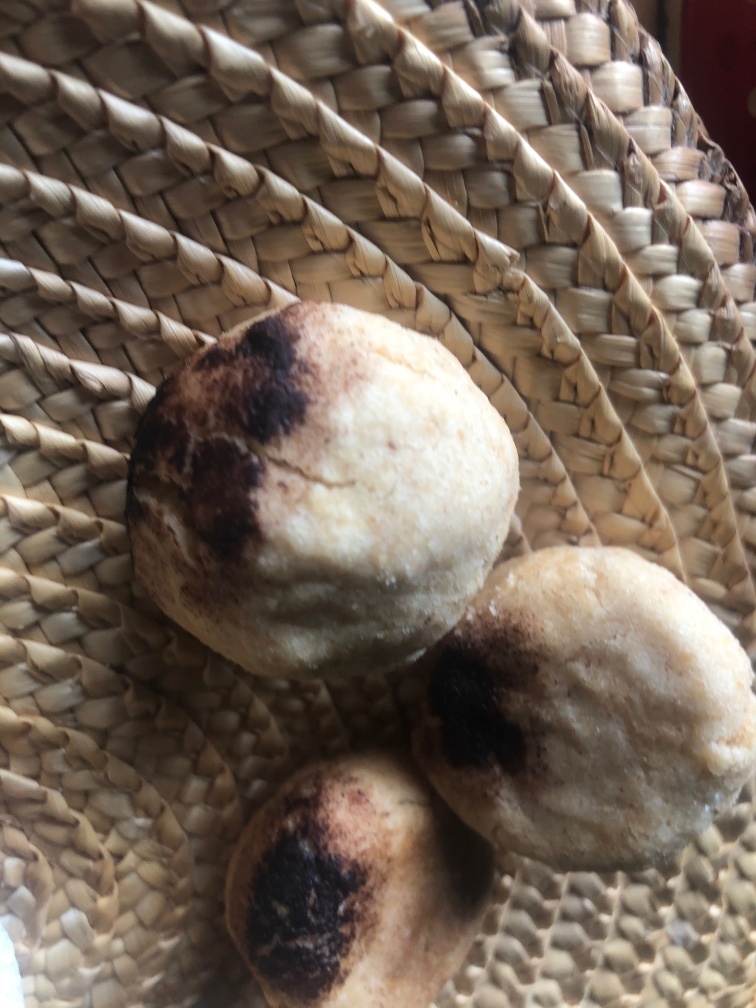snowball: (122, 295, 521, 677), (434, 543, 752, 876), (216, 760, 430, 1008)
